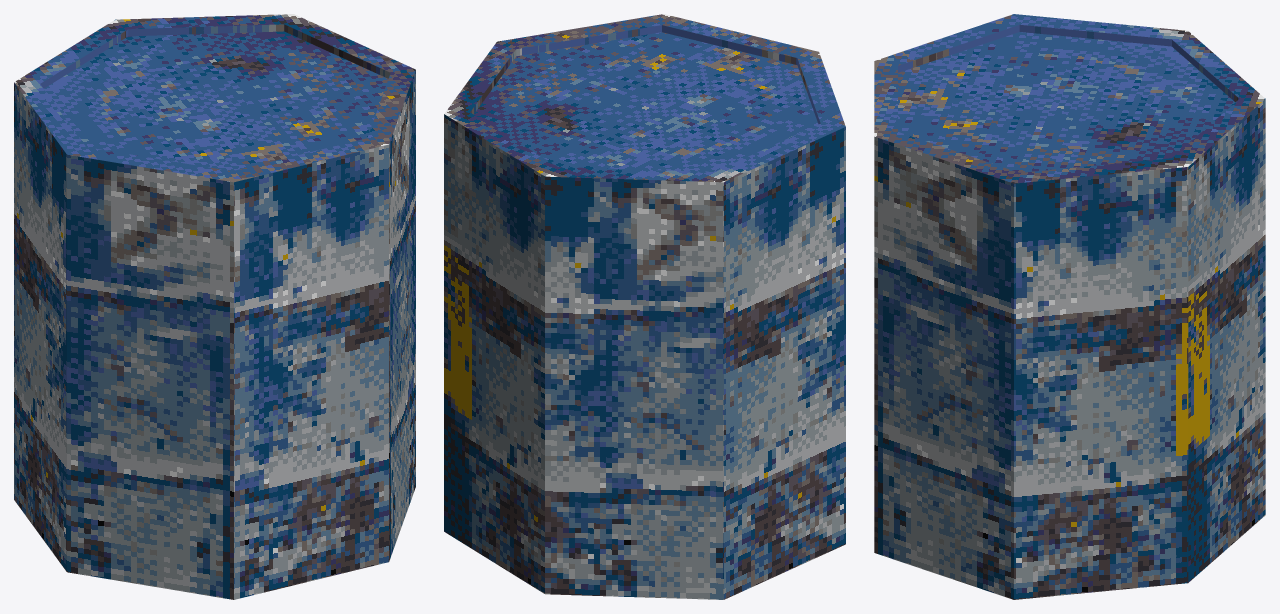
Rendered from Barrel_Blue_2.glb.
The picture shows the model from 3 angles, left to right: view 1: azimuth 30°, elevation 25°; view 2: azimuth 150°, elevation 25°; view 3: azimuth 270°, elevation 25°; orthographic projection.
Visible parts, largest first — view 1: Barrel_Blue 2; view 2: Barrel_Blue 2; view 3: Barrel_Blue 2.
Part boxes in pixels (box(x1,y1,x2,y2)): Barrel_Blue 2: box(14, 14, 415, 599); Barrel_Blue 2: box(444, 14, 845, 599); Barrel_Blue 2: box(874, 14, 1265, 599).
Bounding box in the file's own units: 0.2535 × 0.29 × 0.2471.
Materials: 1 (1 with a texture image).
